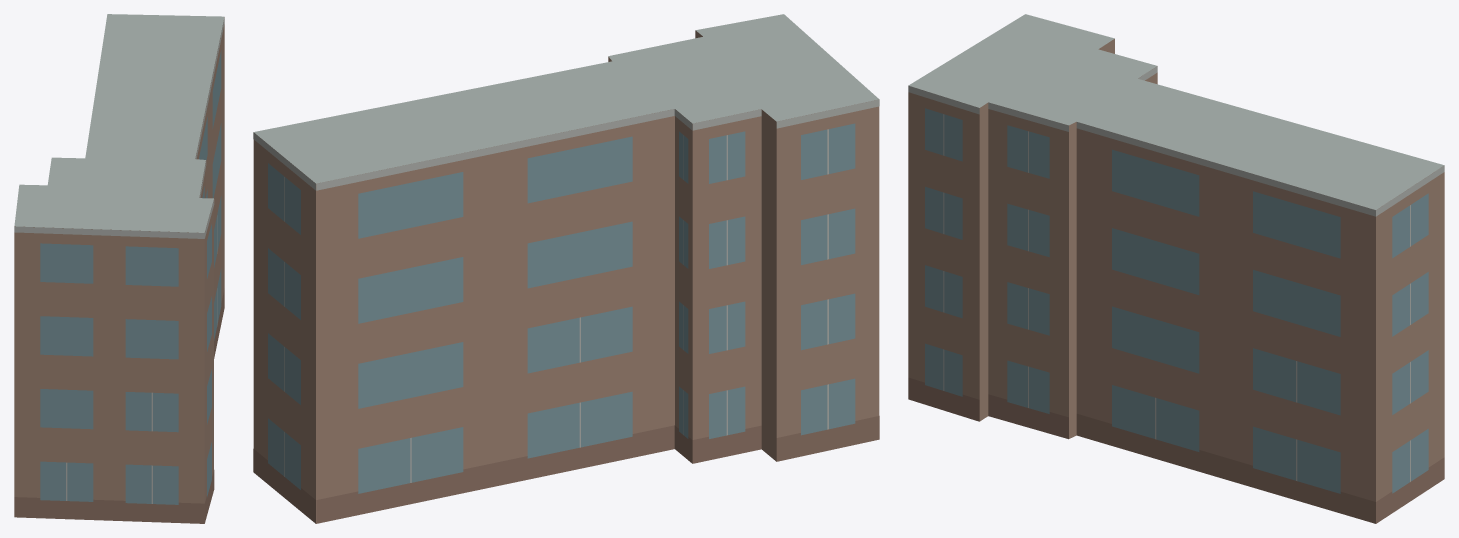
Rendered from survey-upis-32515291.glb.
3 views of the same model, side by side, from view 1: azimuth 30°, elevation 25°; view 2: azimuth 150°, elevation 25°; view 3: azimuth 270°, elevation 25° (orthographic). The views are drawn at different scales.
Parts seen in each view (by area): view 1: survey-upis-32515291.tmp; view 2: survey-upis-32515291.tmp; view 3: survey-upis-32515291.tmp.
Part boxes in pixels (<box>): survey-upis-32515291.tmp: <box>14,14,224,523</box>; survey-upis-32515291.tmp: <box>253,14,879,523</box>; survey-upis-32515291.tmp: <box>908,14,1444,523</box>.
Size of the model in its own units: 15.7 by 11.7 by 18.14.
